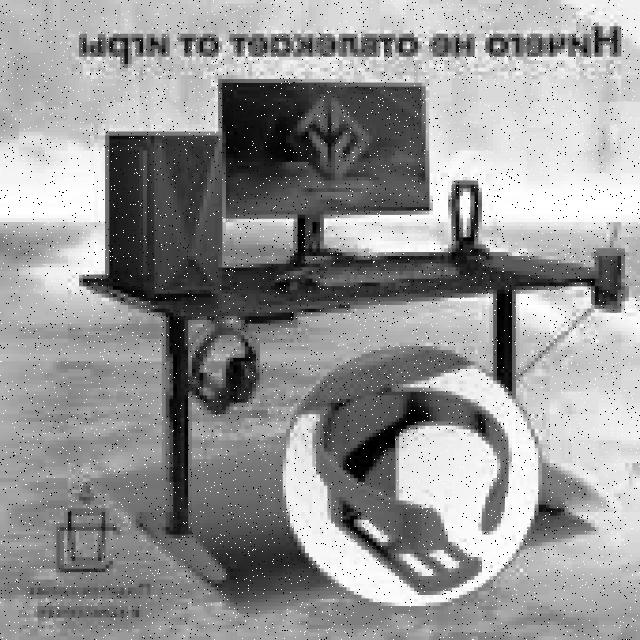table: (83, 241, 610, 580)
